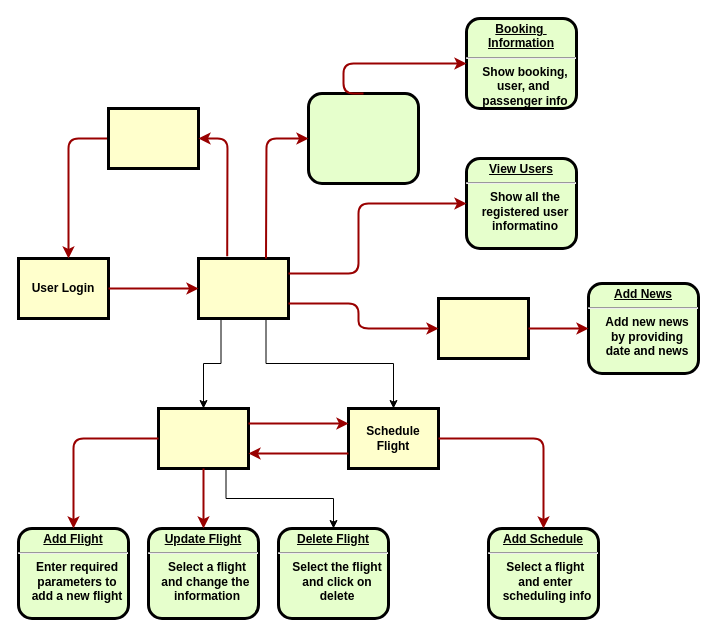
Some shapes in this 717 by 637 pixel diagram are drawn without their labels. Here are the shapes that lost their labels. From the top down, the centre of each, then its label:
At pixel 153 138: "Logout".
At pixel 363 138: "View Booking Select the booking you want to view".
At pixel 243 288: "Admin Home".
At pixel 483 328: "Add News".
At pixel 203 438: "Manage Flight".
